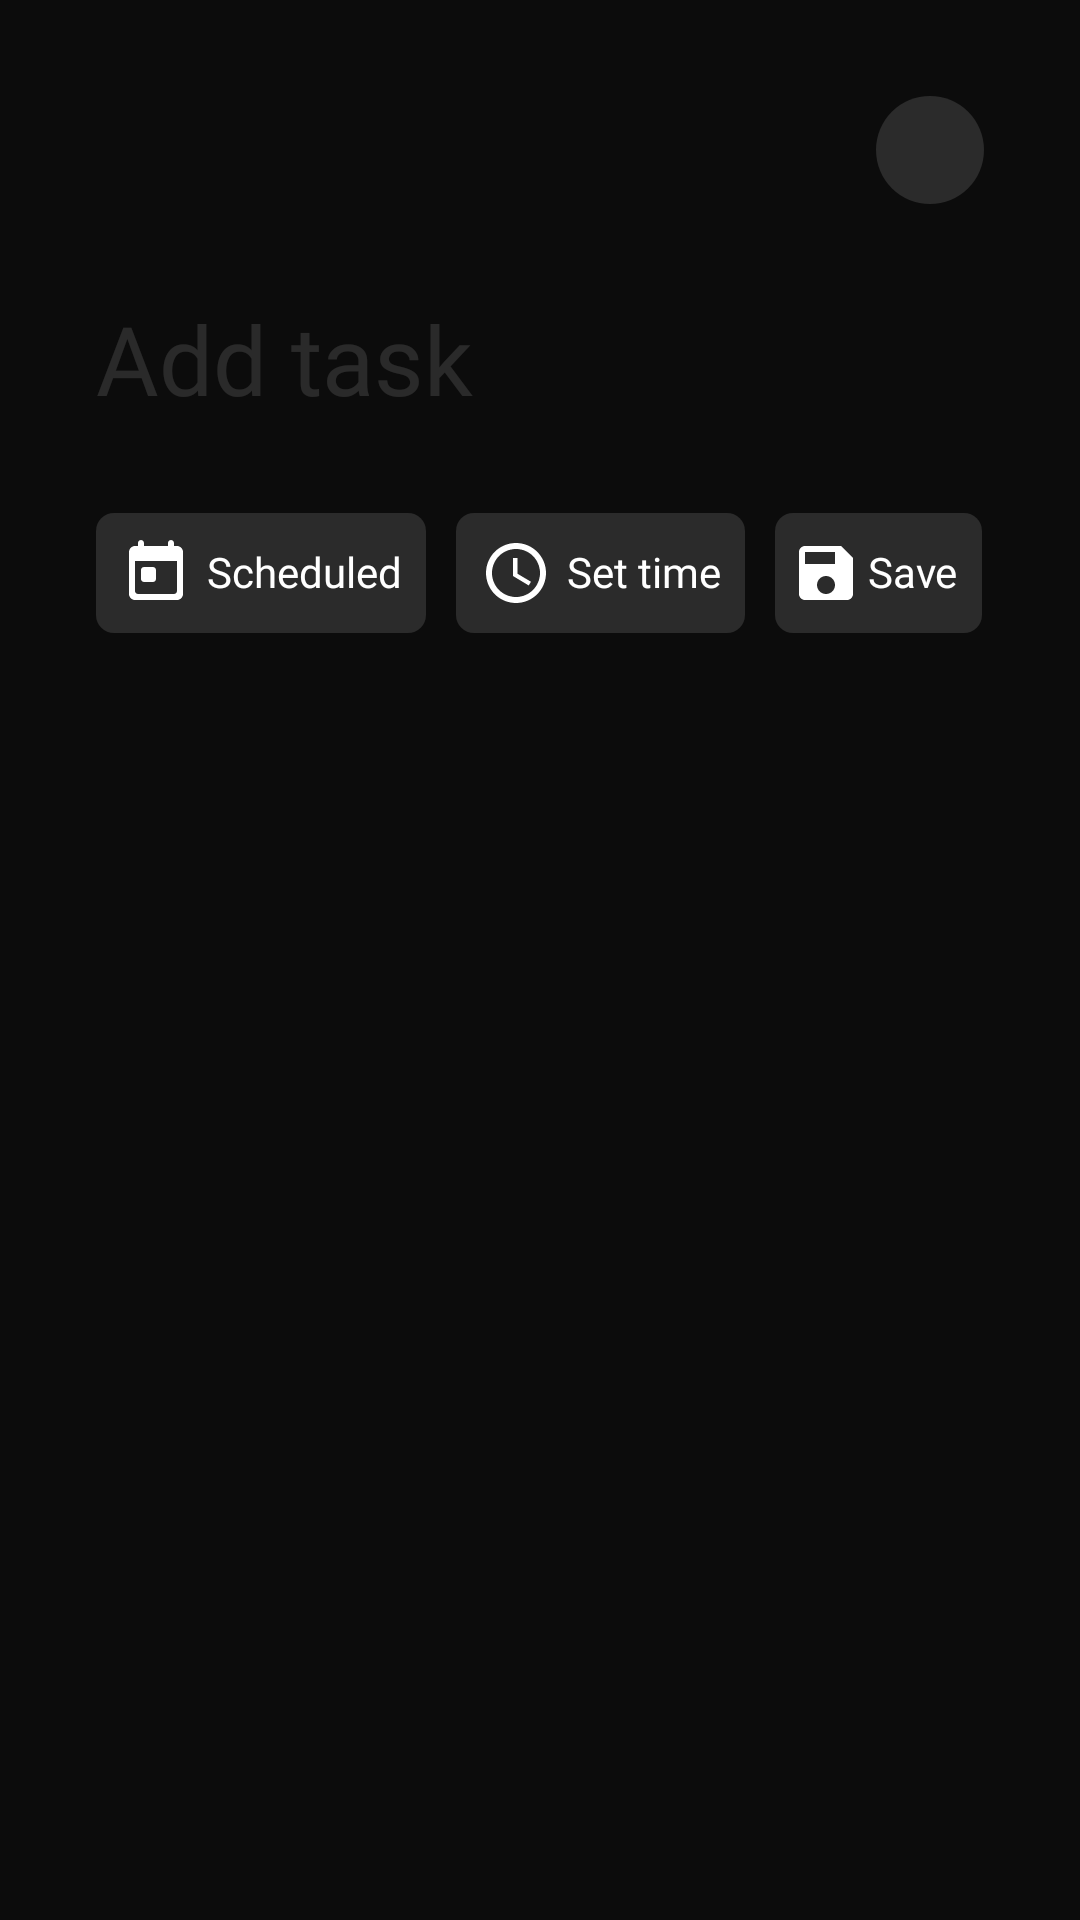

Icon bounding boxes for this 1080 × 1920 phone screenshot, format (x1, y1, x2, y2):
today: (129, 540, 183, 600)
